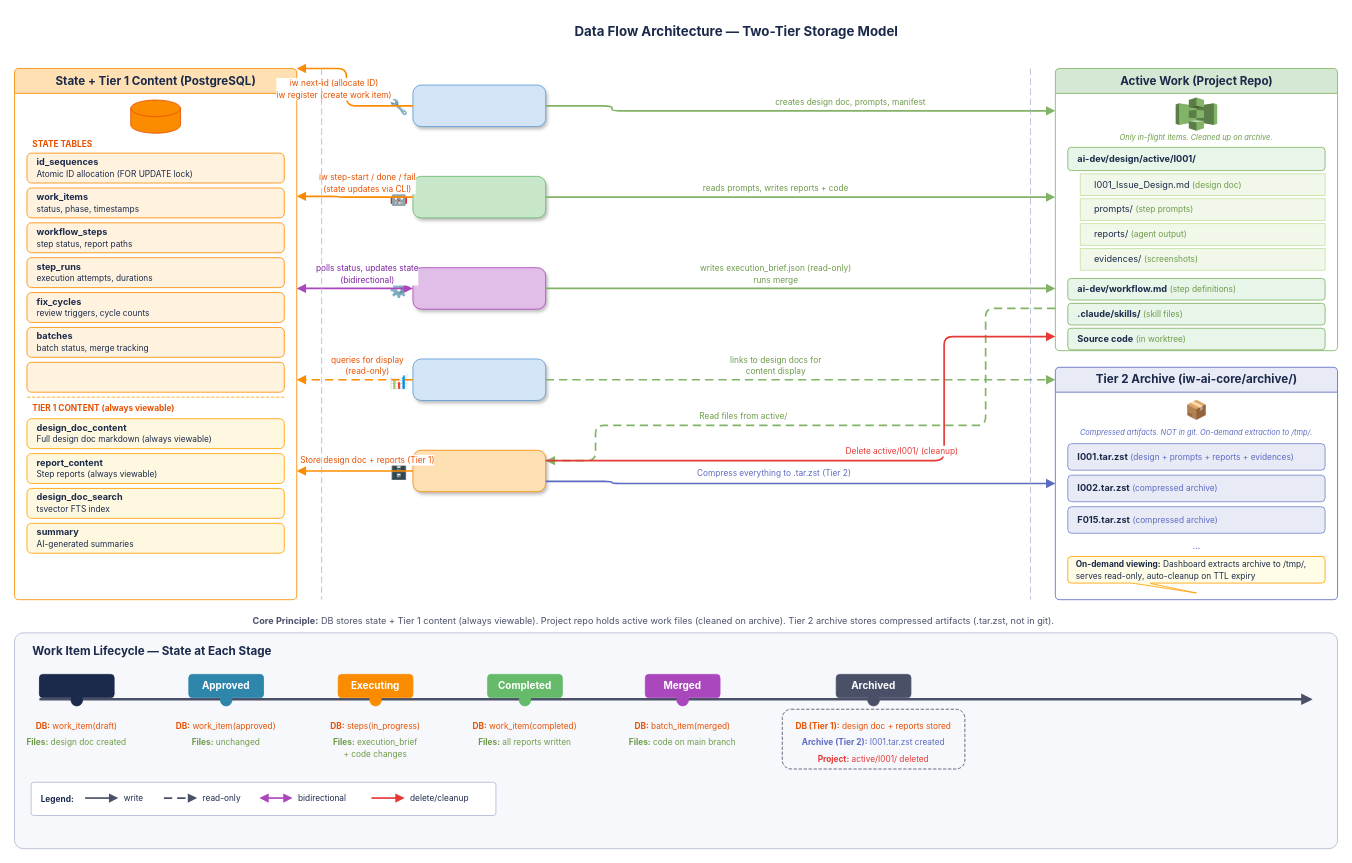
This 1352x863 diagram has some shape labels left out. Each missing label, with the centre of its shape:
"Agent (LLM in worktree)" goes at pixel 480 198.
"Daemon (batch_dispatcher.sh)" goes at pixel 480 289.
"daemon_events audit trail, notifications" goes at pixel 155 376.
"Dashboard (ai_dashboard)" goes at pixel 480 380.
"DB" goes at pixel 155 116.
"Draft" goes at pixel 76 686.
"FS" goes at pixel 1196 114.
"iw archive (archive command)" goes at pixel 480 472.
"Skill (Claude Code)" goes at pixel 480 106.
